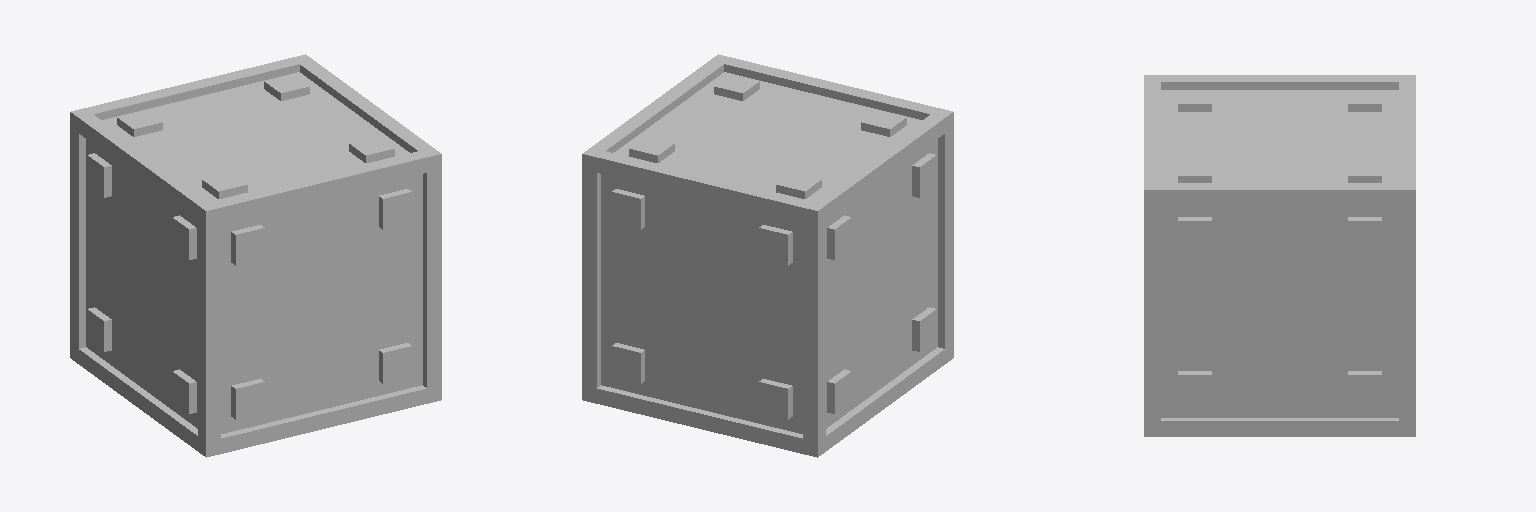
The model's file is uranium_block.obj.
The picture shows the model from 3 angles: view 1: azimuth 30°, elevation 25°; view 2: azimuth 150°, elevation 25°; view 3: azimuth 270°, elevation 25°; orthographic projection.
Visible parts, largest first — view 1: Plane.001_Plane.003; view 2: Plane.001_Plane.003; view 3: Plane.001_Plane.003.
Boxes of the visible parts, box(x1,y1,x2,y2) form: Plane.001_Plane.003: box(70, 54, 441, 457); Plane.001_Plane.003: box(582, 54, 953, 457); Plane.001_Plane.003: box(1144, 75, 1415, 436).
Bounding box in the file's own units: 1 × 1 × 1.